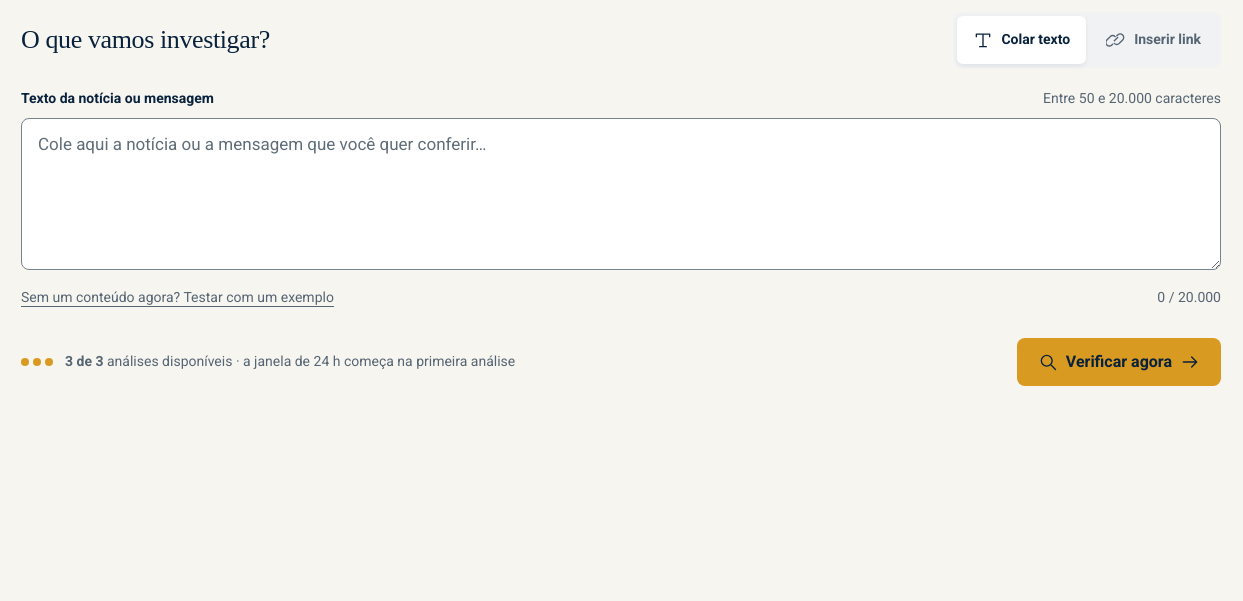
Test case: validação no navegador (RF01, RF27) › texto curto: erro escrito, foco no campo, nada é enviado e o limite não é gasto
Type "oi, vi uma notícia estranha" into the text box labelled "Texto da notícia ou mensagem" at [621, 194], box [21, 118, 1221, 270]
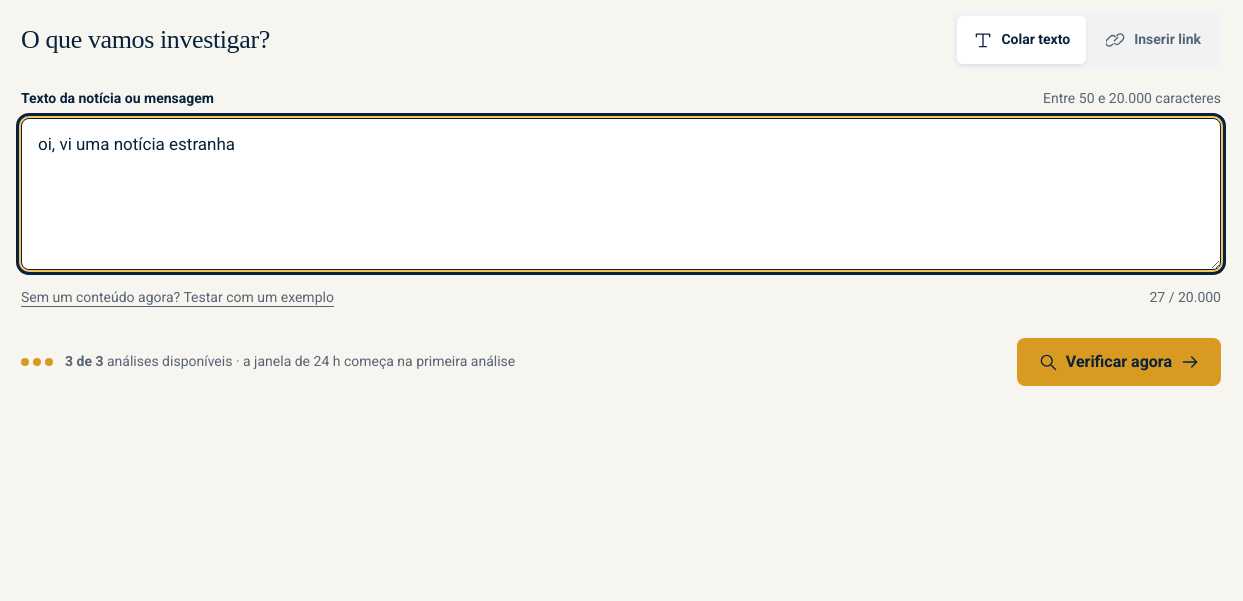
Click the button "Verificar agora" at [1119, 362], box [1017, 338, 1221, 386]
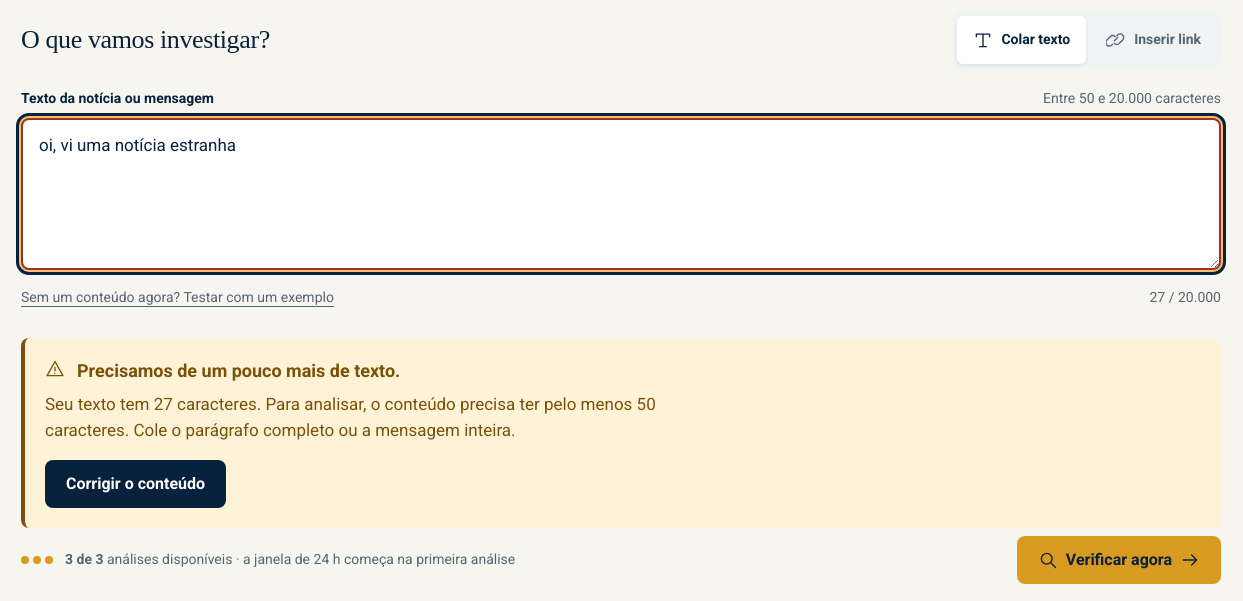
Now the message is shown, box [45, 359, 656, 440]
Now the message shows "Precisamos de um pouco mais de texto.", box [77, 360, 400, 381]
Now the message shows "Seu texto tem 27 caracteres", box [45, 394, 656, 440]
